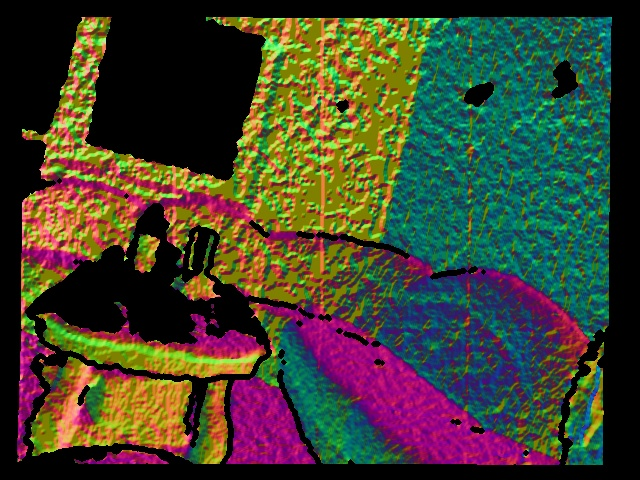station: (174, 229, 219, 304)
